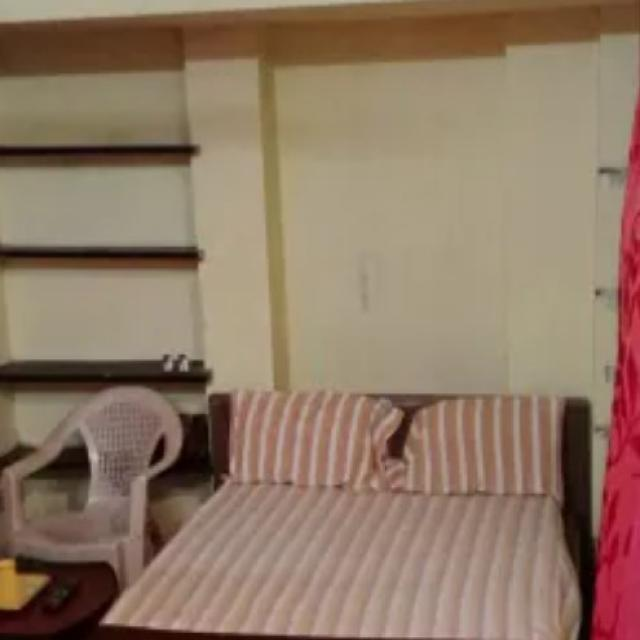Non_Damaged: (0, 20, 590, 640)
